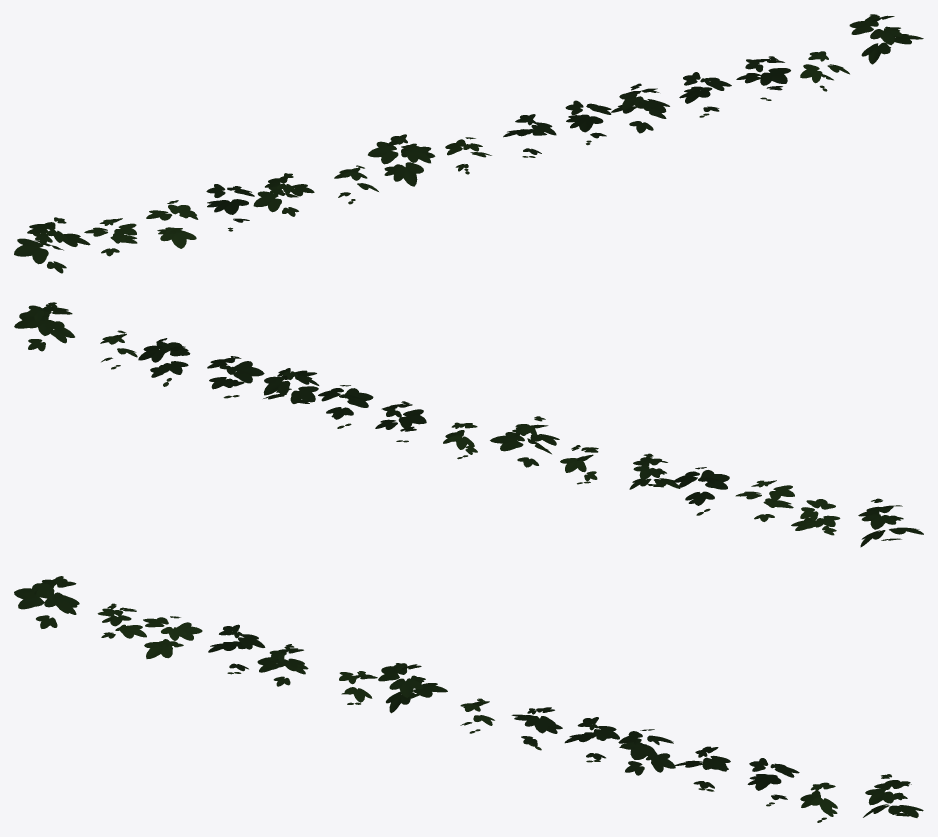
The model's file is ROW_13_SEG3_foliage.dae.
3 views of the same model, one above another, from view 1: azimuth 30°, elevation 25°; view 2: azimuth 150°, elevation 25°; view 3: azimuth 330°, elevation 25° (orthographic).
Parts seen in each view (by area): view 1: ROW_13_SEG3_foliage; view 2: ROW_13_SEG3_foliage; view 3: ROW_13_SEG3_foliage.
Boxes of the visible parts, box(x1,y1,x2,y2) form: ROW_13_SEG3_foliage: box(14, 14, 923, 273); ROW_13_SEG3_foliage: box(14, 302, 923, 547); ROW_13_SEG3_foliage: box(14, 576, 923, 822).
Bounding box in the file's own units: 4.64 × 0.3459 × 0.2751.
